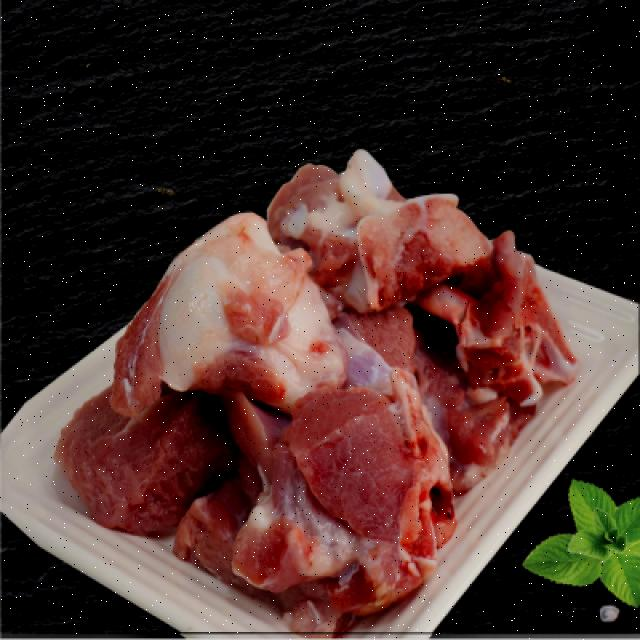Mutton: (24, 102, 583, 518)
